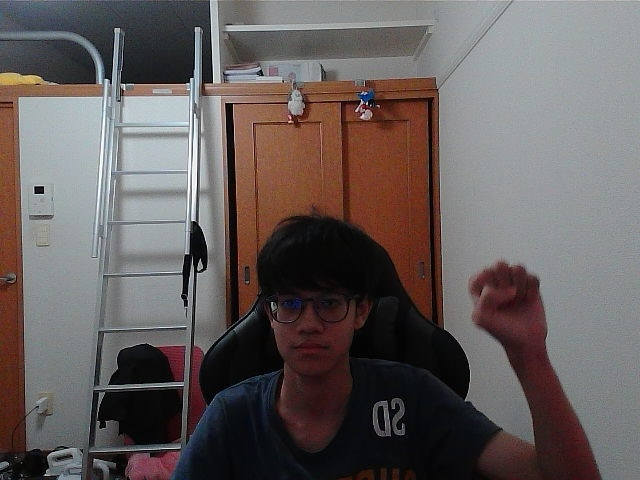closed_palm: (480, 268, 531, 337)
